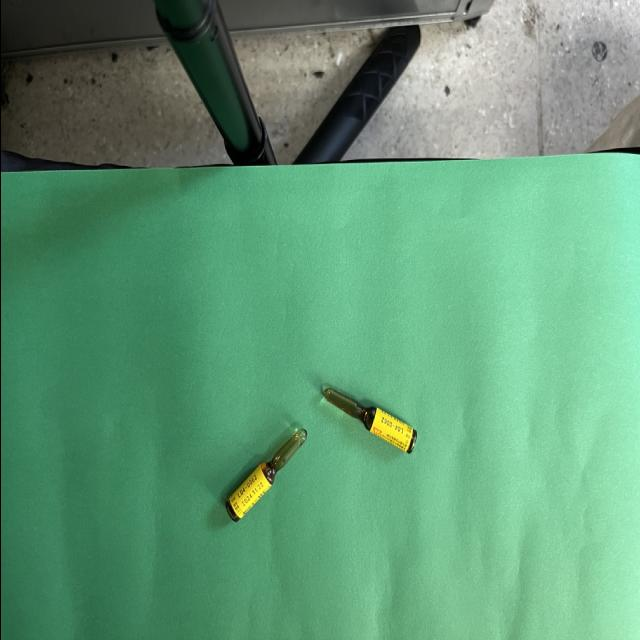Ampoules: (224, 429, 306, 523), (322, 388, 416, 453)
